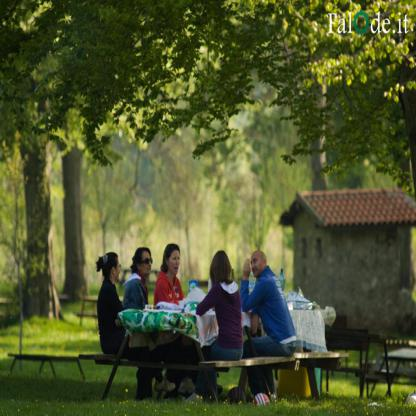face: (170, 250, 182, 275), (251, 254, 263, 277), (142, 252, 153, 274), (114, 260, 122, 281)
